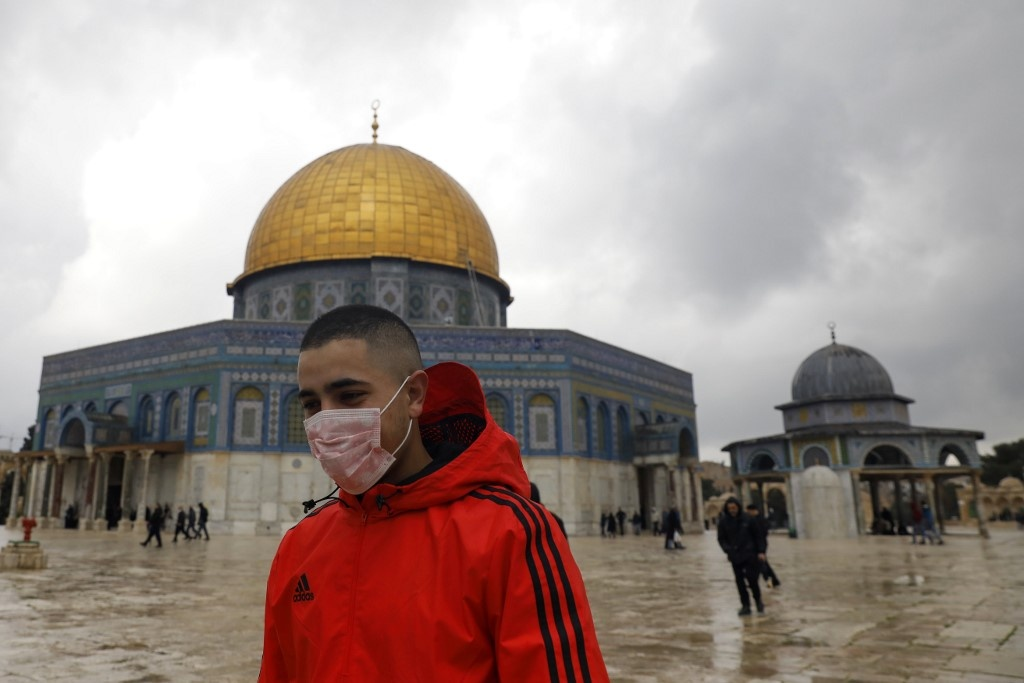with_mask: (300, 304, 435, 485)
